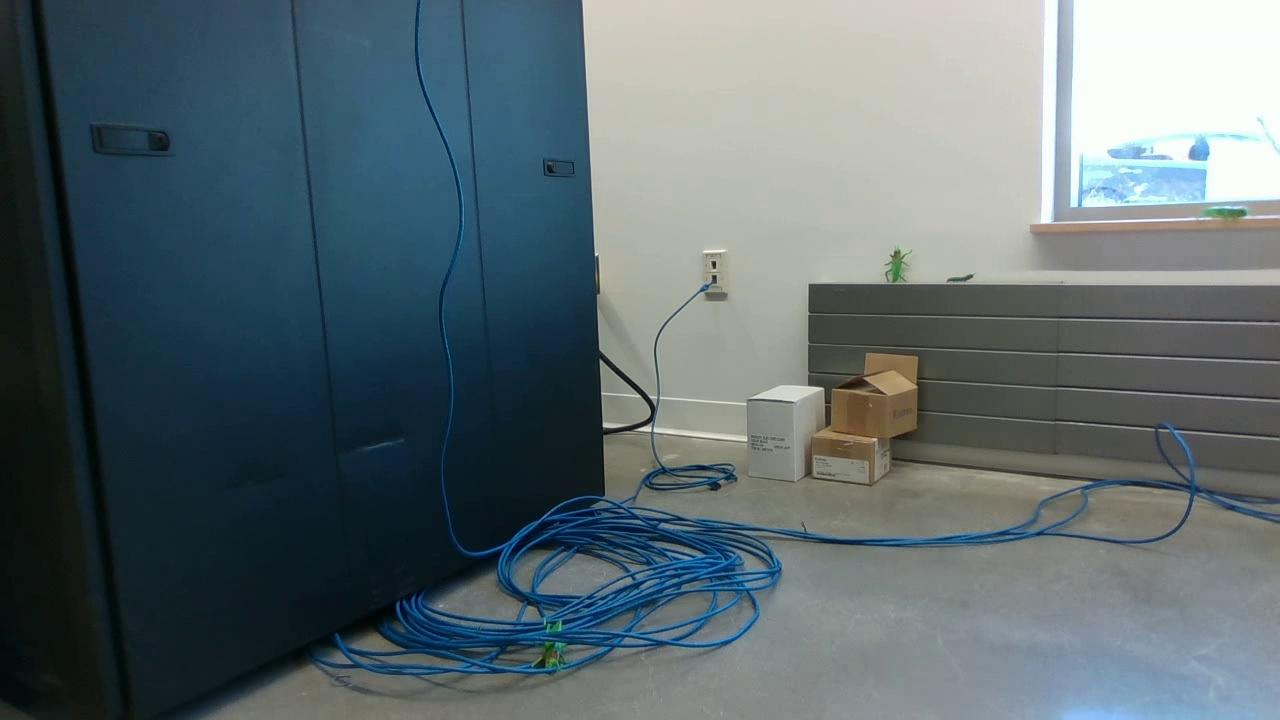grasshopper: (529, 617, 564, 674), (885, 246, 911, 286), (1203, 207, 1247, 225)
